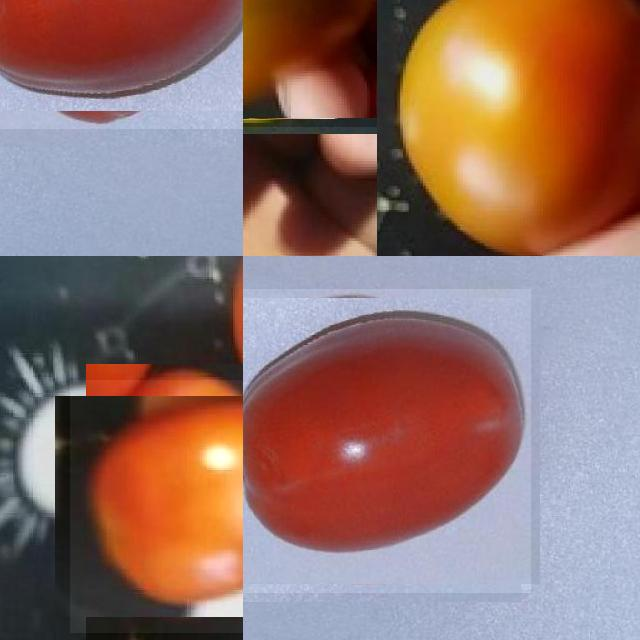Fresh Tomato: (243, 289, 531, 593), (377, 0, 640, 256), (70, 380, 243, 633), (0, 0, 243, 129), (243, 0, 377, 126)
